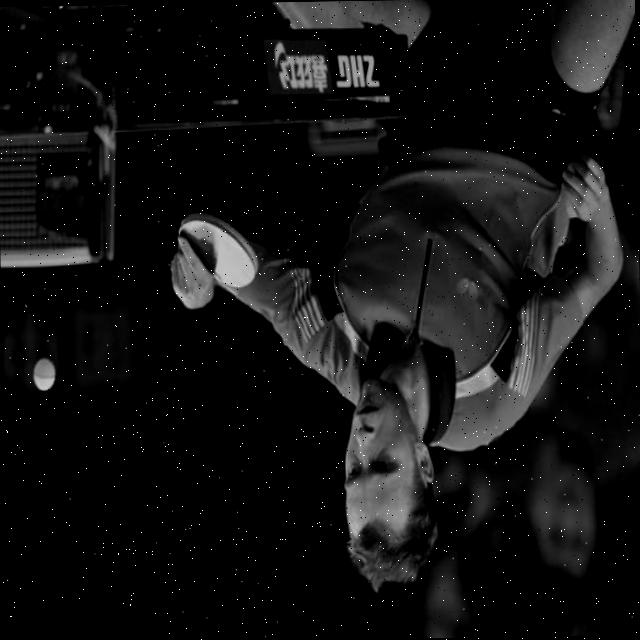ping-pong-ball: (25, 351, 58, 400)
